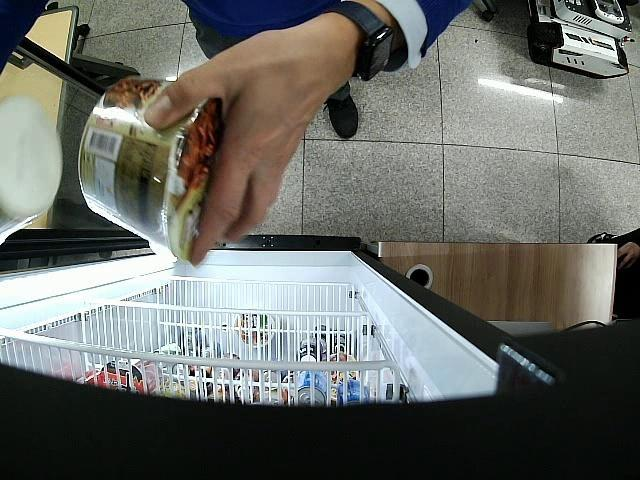03_chapagetti_L: (79, 73, 220, 262)
